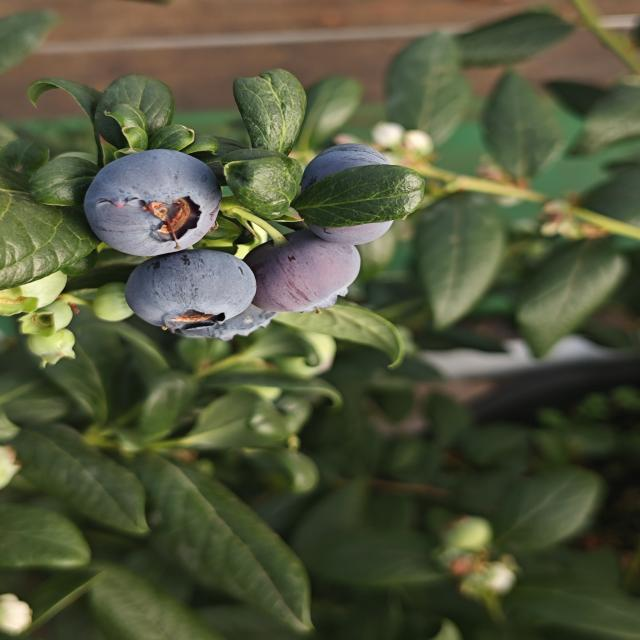ripe: (79, 142, 224, 260), (288, 134, 416, 248), (134, 264, 277, 343), (244, 225, 367, 314), (121, 254, 256, 330)
